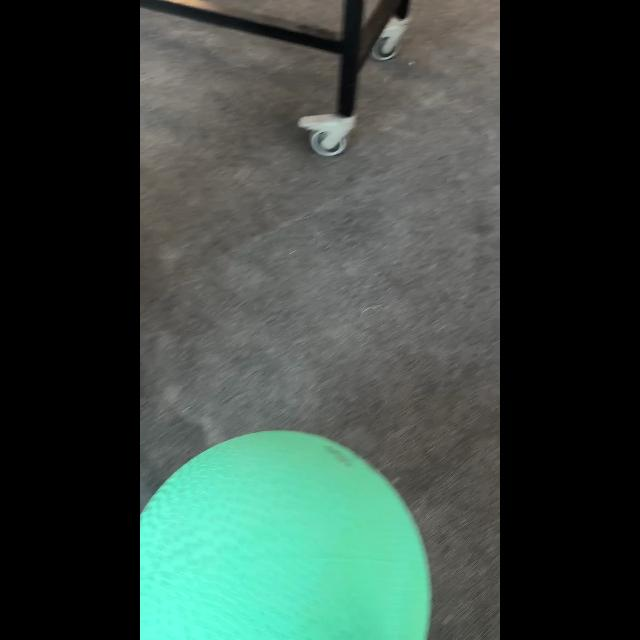ALGAE: (140, 429, 432, 639)
